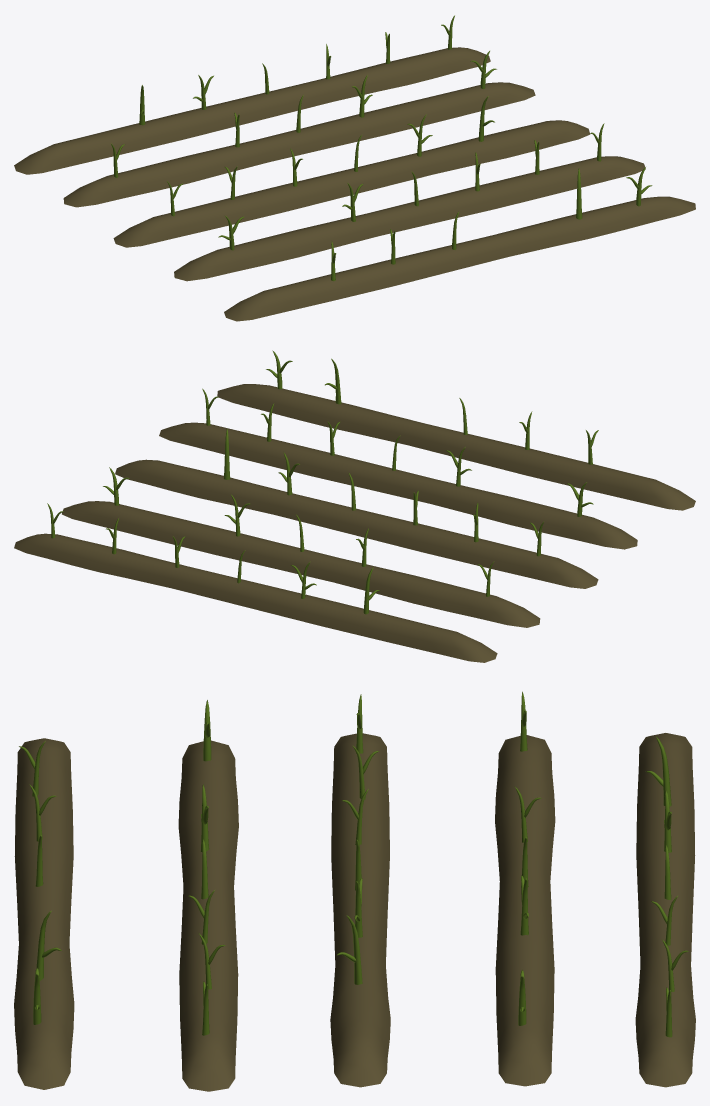
Rendered from quaternius-real-time-strategy-farm-dirt-level-2.glb.
3 renders of one model, top to bottom at view 1: azimuth 30°, elevation 25°; view 2: azimuth 150°, elevation 25°; view 3: azimuth 270°, elevation 25°, orthographic. The views are drawn at different scales.
Parts seen in each view (by area): view 1: Farm_Dirt_Level2; view 2: Farm_Dirt_Level2; view 3: Farm_Dirt_Level2.
Boxes of the visible parts, <box> form: Farm_Dirt_Level2: <box>14,15,695,321</box>; Farm_Dirt_Level2: <box>14,350,695,662</box>; Farm_Dirt_Level2: <box>14,691,695,1091</box>.
Size of the model in its own units: 1.79 by 0.2208 by 1.44.
